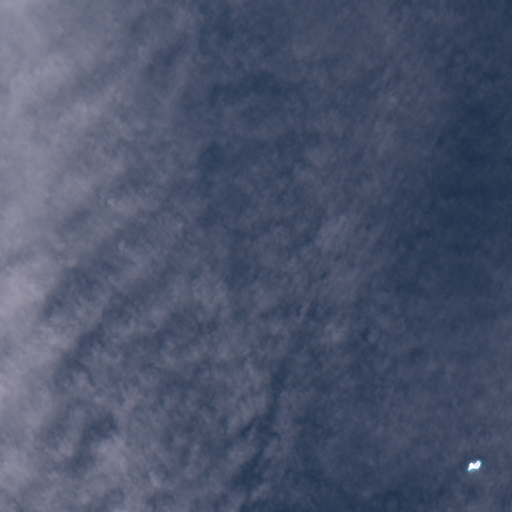Iceberg: (468, 460, 480, 470)
